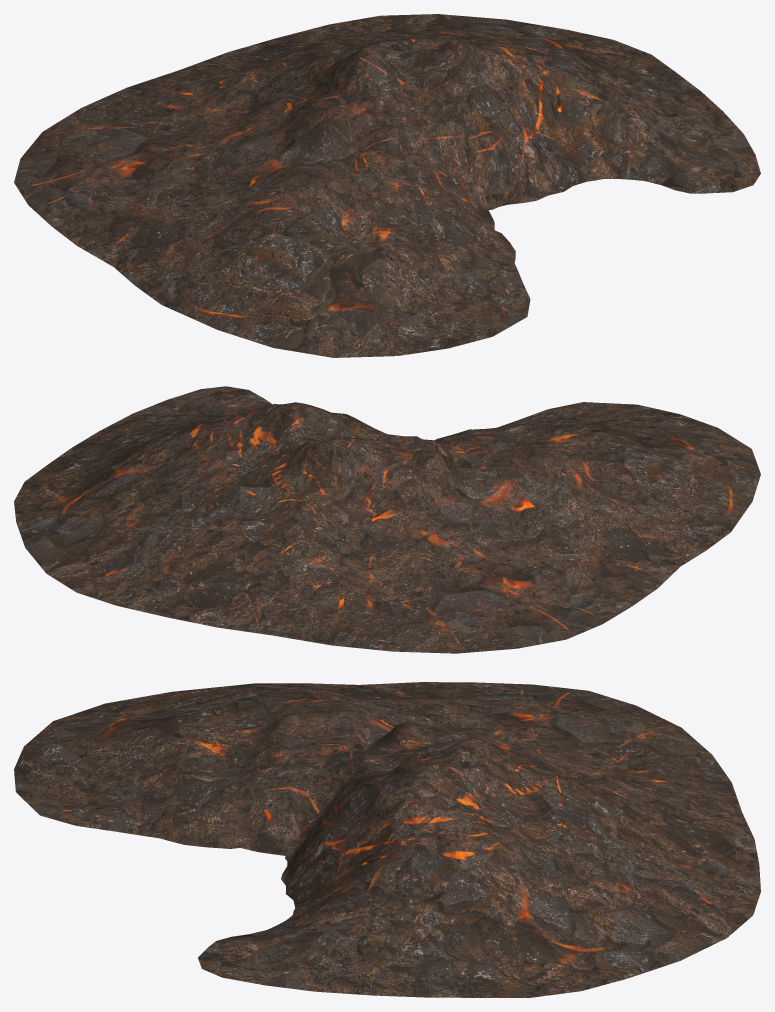
Rendered from EP1_Terrain04b.fbx.
3 views of the same model, one above another, from view 1: azimuth 30°, elevation 25°; view 2: azimuth 150°, elevation 25°; view 3: azimuth 270°, elevation 25° (orthographic). The views are drawn at different scales.
Parts seen in each view (by area): view 1: EP1_Terrain04b; view 2: EP1_Terrain04b; view 3: EP1_Terrain04b.
Part boxes in pixels (x1=…): EP1_Terrain04b: x1=14, y1=14, x2=760, y2=357; EP1_Terrain04b: x1=14, y1=386, x2=760, y2=653; EP1_Terrain04b: x1=14, y1=682, x2=760, y2=997.
Bounding box in the file's own units: 21.78 × 3.53 × 21.76.
Materials: 1 (1 with a texture image).
